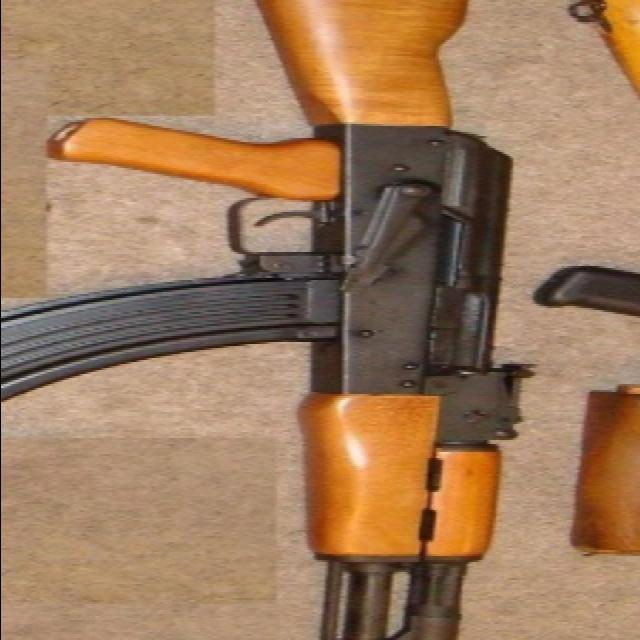rifle: (31, 1, 551, 639)
